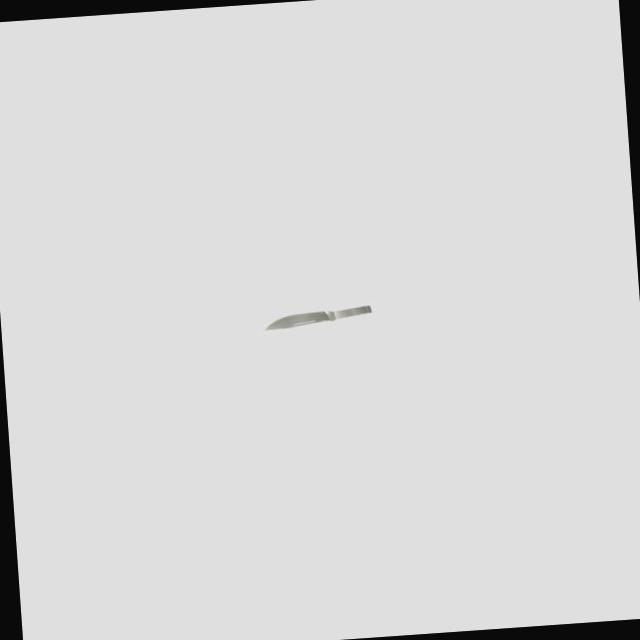knife: (325, 305, 371, 320)
